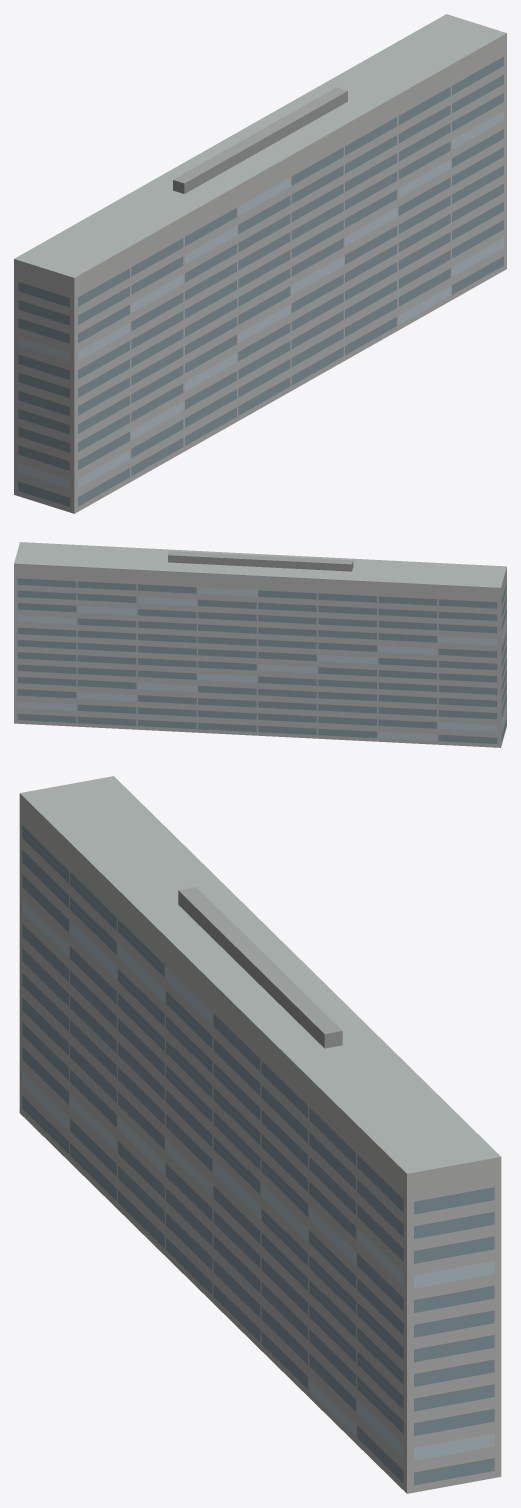
File: apt-a13580003.glb
The picture shows the model from 3 angles, top to bottom: view 1: azimuth 30°, elevation 25°; view 2: azimuth 150°, elevation 25°; view 3: azimuth 270°, elevation 25°; orthographic projection. The views are drawn at different scales.
Visible parts, largest first — view 1: apt-a13580003; view 2: apt-a13580003; view 3: apt-a13580003.
Boxes of the visible parts, x1,y1,x2,y2 form: apt-a13580003: [14, 14, 506, 513]; apt-a13580003: [14, 542, 506, 747]; apt-a13580003: [19, 776, 501, 1493].
Size of the model in its own units: 106 by 41.43 by 54.06.
